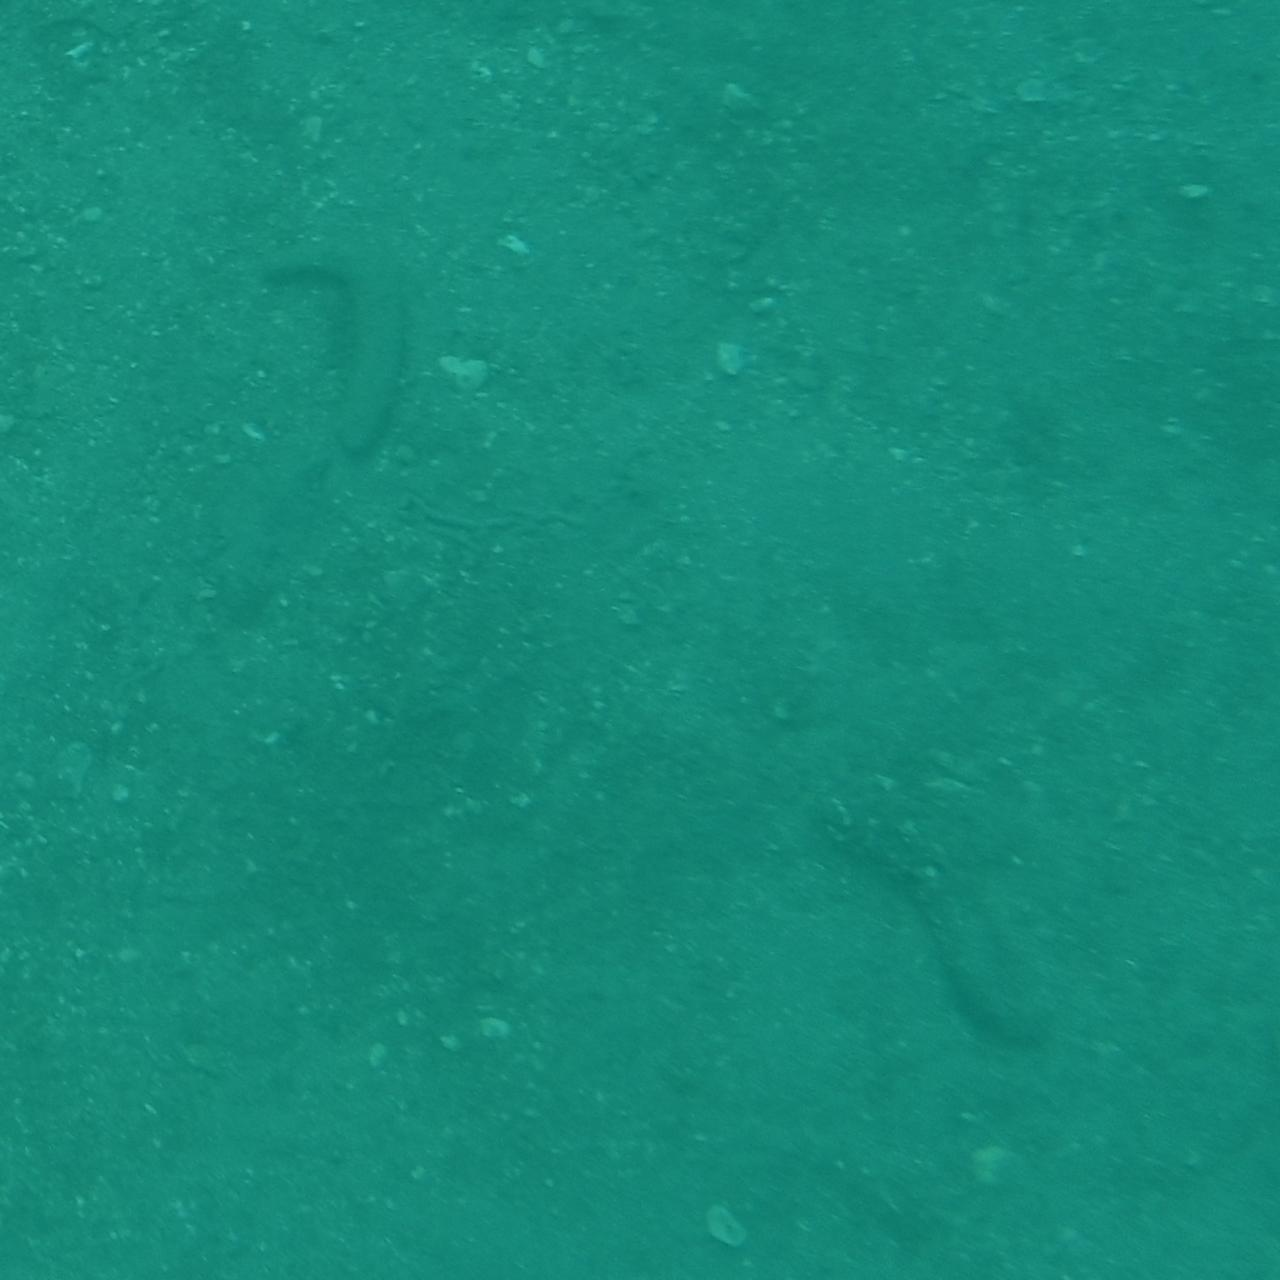Holothuria tubulosa: (805, 778, 1089, 1068), (251, 237, 415, 479)
